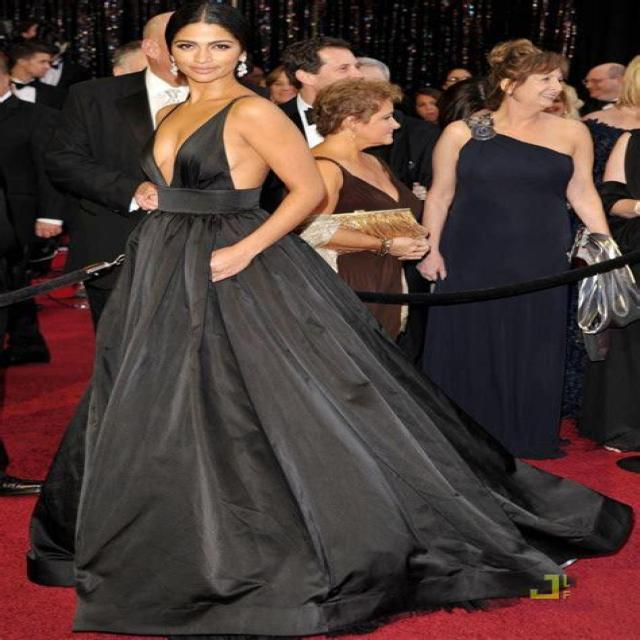dress: (28, 99, 636, 640), (425, 110, 576, 460)
